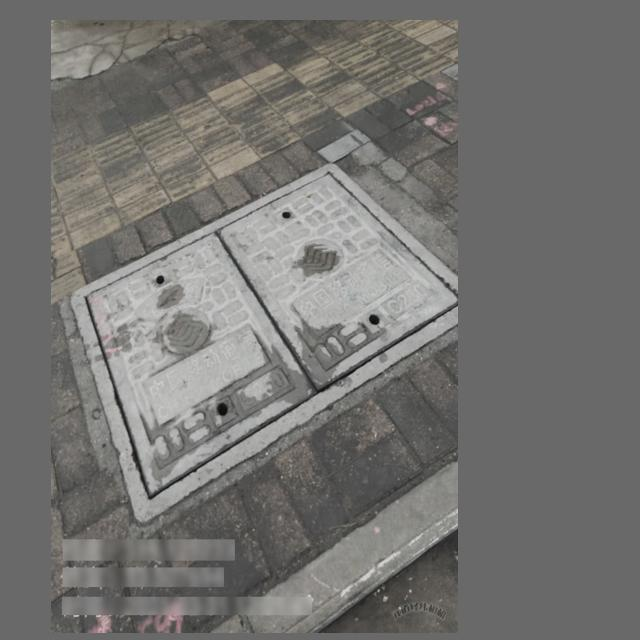good: (70, 163, 458, 521)
